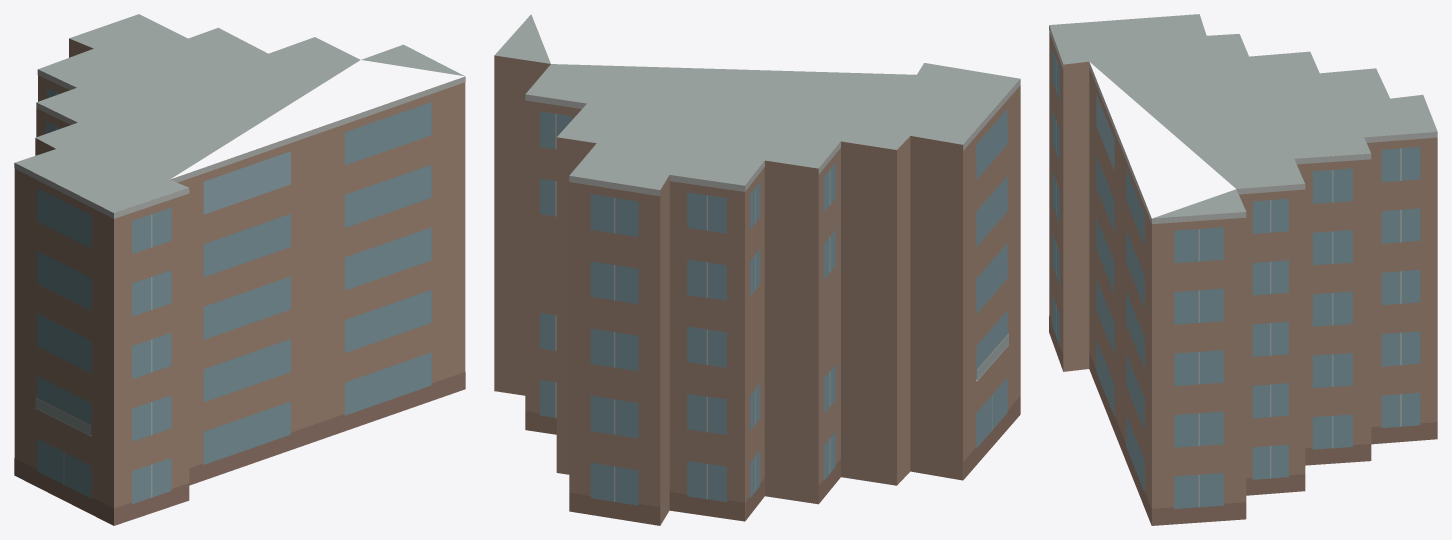
File: survey-upis-32908110.glb
3 views of the same model, side by side, from view 1: azimuth 30°, elevation 25°; view 2: azimuth 150°, elevation 25°; view 3: azimuth 270°, elevation 25° (orthographic). The views are drawn at different scales.
Visible parts, largest first — view 1: survey-upis-32908110.tmp; view 2: survey-upis-32908110.tmp; view 3: survey-upis-32908110.tmp.
Boxes of the visible parts, x1,y1,x2,y2 form: survey-upis-32908110.tmp: (14, 14, 465, 525); survey-upis-32908110.tmp: (494, 14, 1020, 525); survey-upis-32908110.tmp: (1049, 14, 1437, 525).
Bounding box in the file's own units: 18.85 × 13.2 × 15.14.
